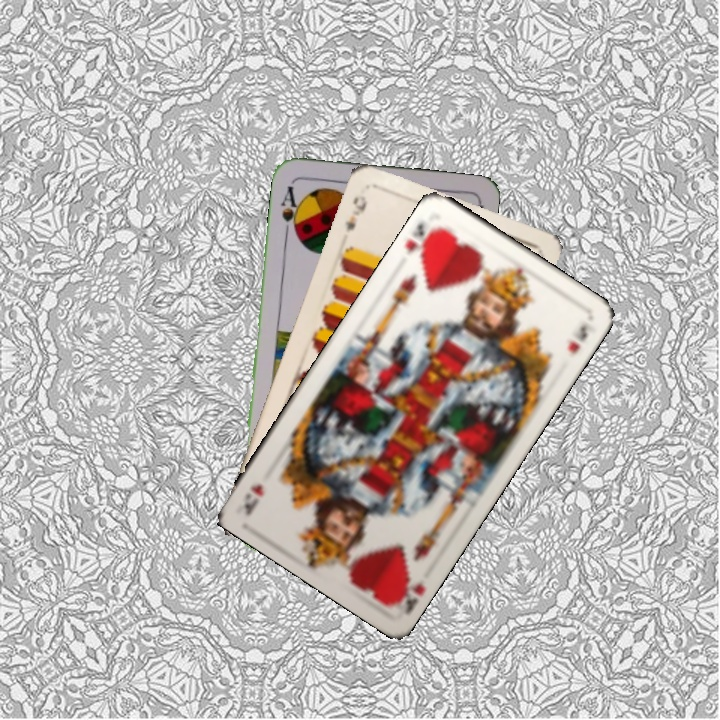E9: (341, 191, 370, 235)
HK: (387, 568, 428, 617), (401, 218, 443, 260)
SA: (277, 182, 304, 239)
